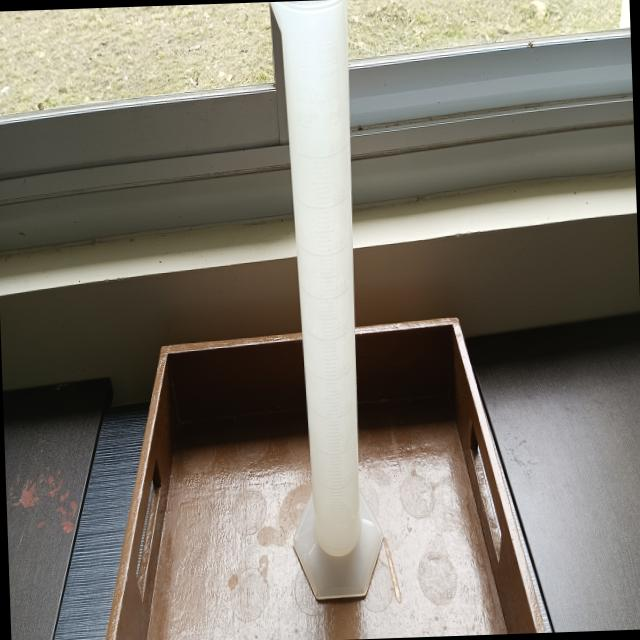graduated_cylinder: (264, 0, 389, 613)
